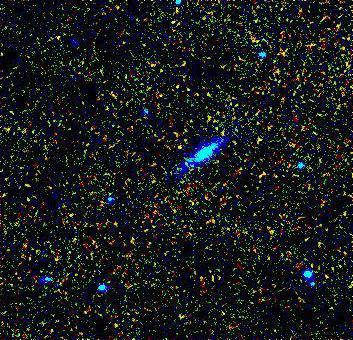star: (164, 134, 194, 164)
